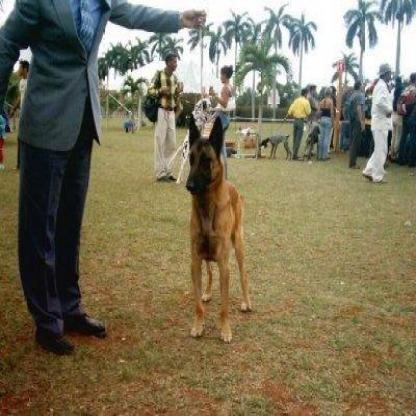malinois: (183, 113, 251, 346)
